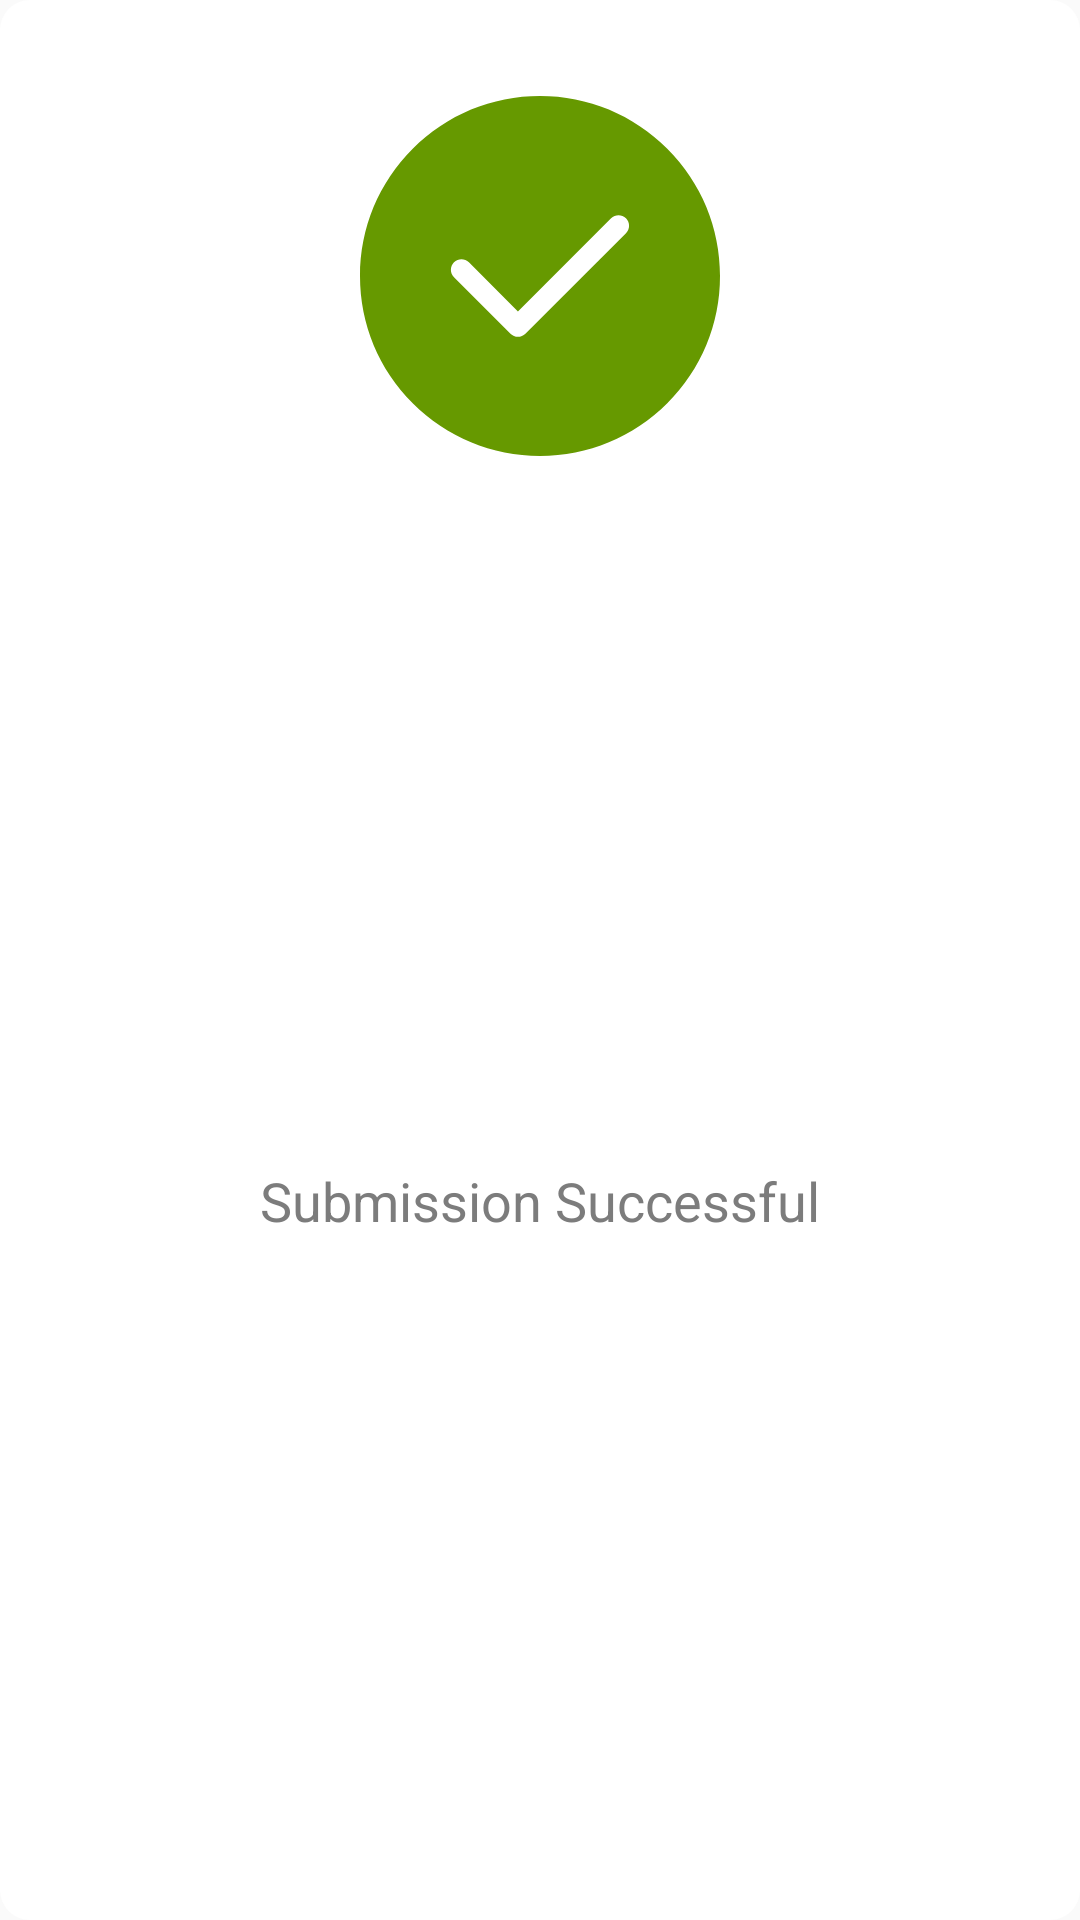

Where icons sit on this 1080x1920 app screen, as (x1, y1, x2, y2):
successful: (360, 96, 720, 456)
